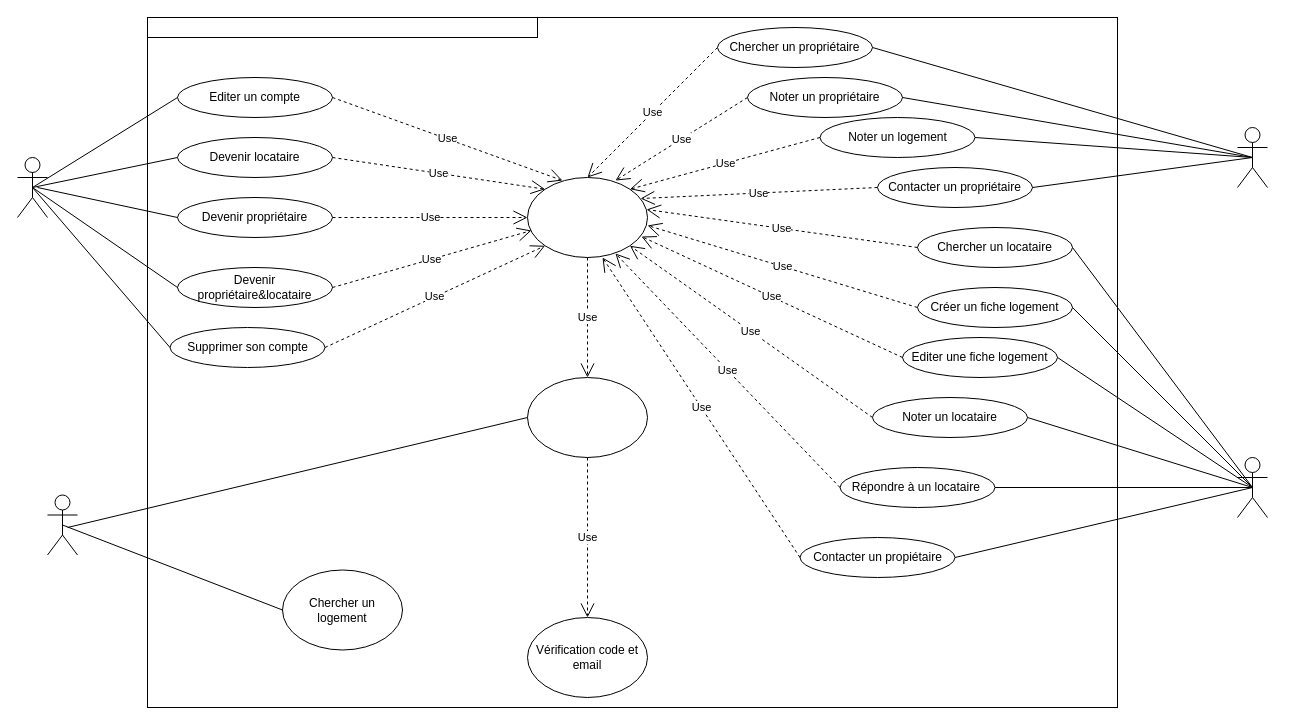
The diagram is 1301 pixels wide and 725 high, and some of its shapes have lost their labels. Each missing label, with the centre of its shape:
"Créer un compte" belongs at [587,417].
"Locataire" belongs at [1252,157].
"Propriétaire" belongs at [1252,487].
"S'authentifier" belongs at [587,217].
"Système d'authentification" belongs at [342,27].
"User" belongs at [32,187].
"visiteur" belongs at [62,524].
